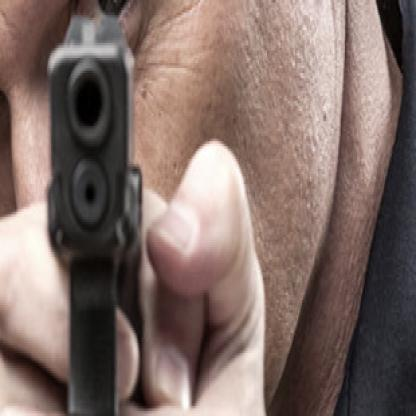gun: (36, 0, 162, 414)
